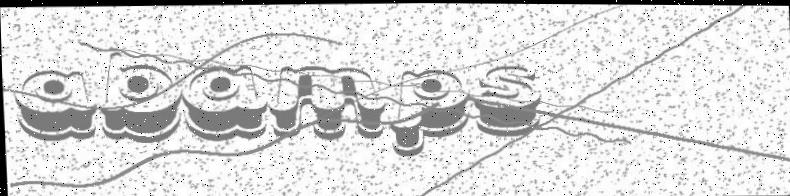a: (180, 62, 268, 142), (12, 69, 98, 142)
b: (95, 49, 182, 145)
m: (265, 63, 387, 141)
p: (385, 67, 469, 157)
s: (470, 64, 543, 137)
